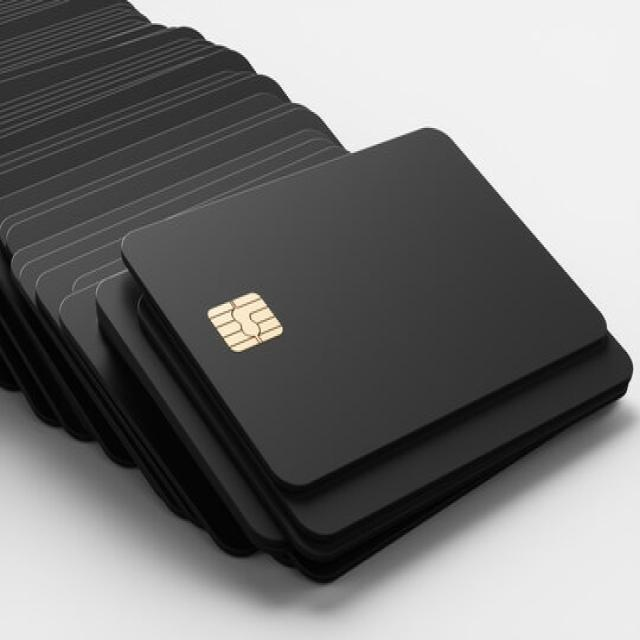payment_card: (119, 126, 609, 485)
